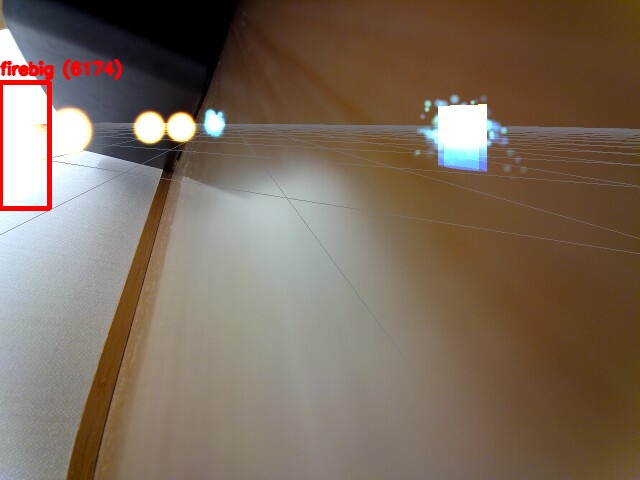firebig: (0, 82, 49, 208)
